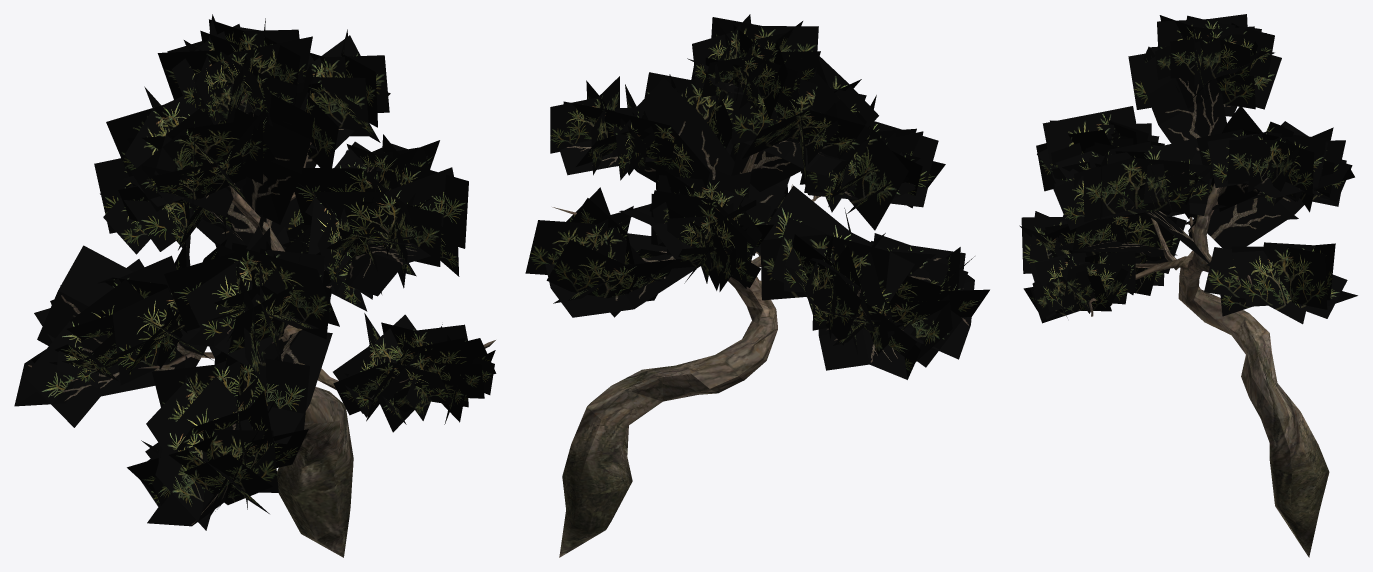
The model's file is bg_anh_tree_pinetree04_sm_ysi.FBX.
3 renders of one model, left to right at view 1: azimuth 30°, elevation 25°; view 2: azimuth 150°, elevation 25°; view 3: azimuth 270°, elevation 25°, orthographic. The views are drawn at different scales.
Parts seen in each view (by area): view 1: bg_anh_tree_pinetree04_sm_ysi; view 2: bg_anh_tree_pinetree04_sm_ysi; view 3: bg_anh_tree_pinetree04_sm_ysi.
Part boxes in pixels (x1=…): bg_anh_tree_pinetree04_sm_ysi: x1=14, y1=14, x2=496, y2=557; bg_anh_tree_pinetree04_sm_ysi: x1=525, y1=14, x2=989, y2=557; bg_anh_tree_pinetree04_sm_ysi: x1=1019, y1=14, x2=1357, y2=557.
Size of the model in its own units: 194 by 270 by 177.
